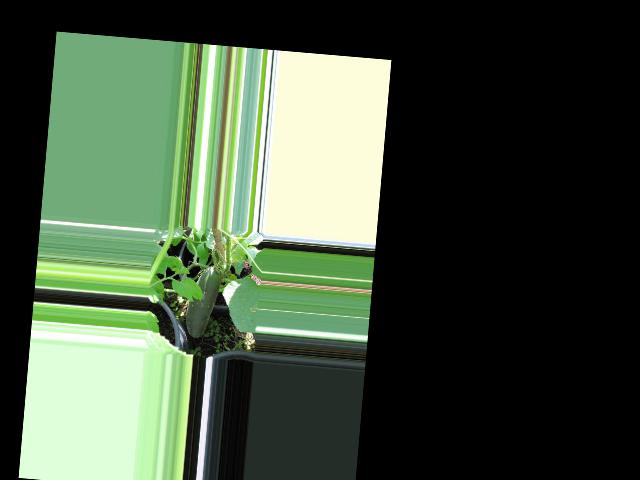cucumber: (184, 264, 223, 339)
